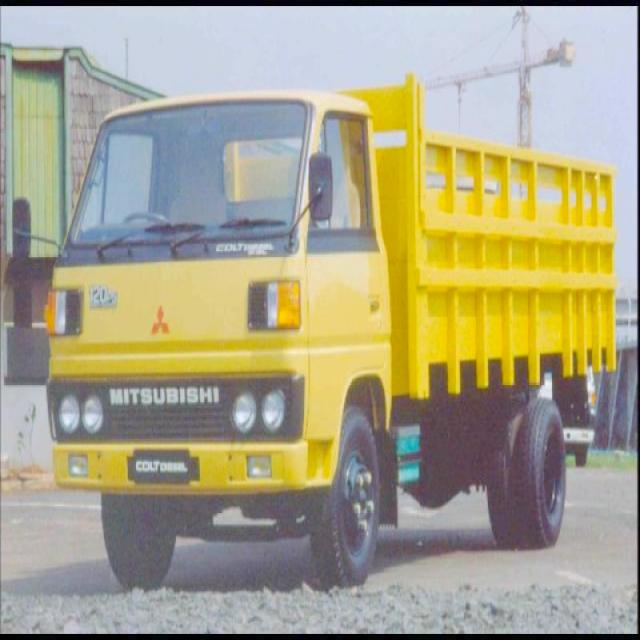truck: (15, 73, 616, 593)
